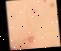plaque psoriasis: (8, 44, 34, 51), (25, 35, 34, 43), (48, 43, 52, 48)
